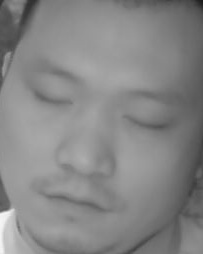blink: (124, 111, 166, 135), (32, 85, 72, 109)
mouth: (42, 184, 111, 223)
